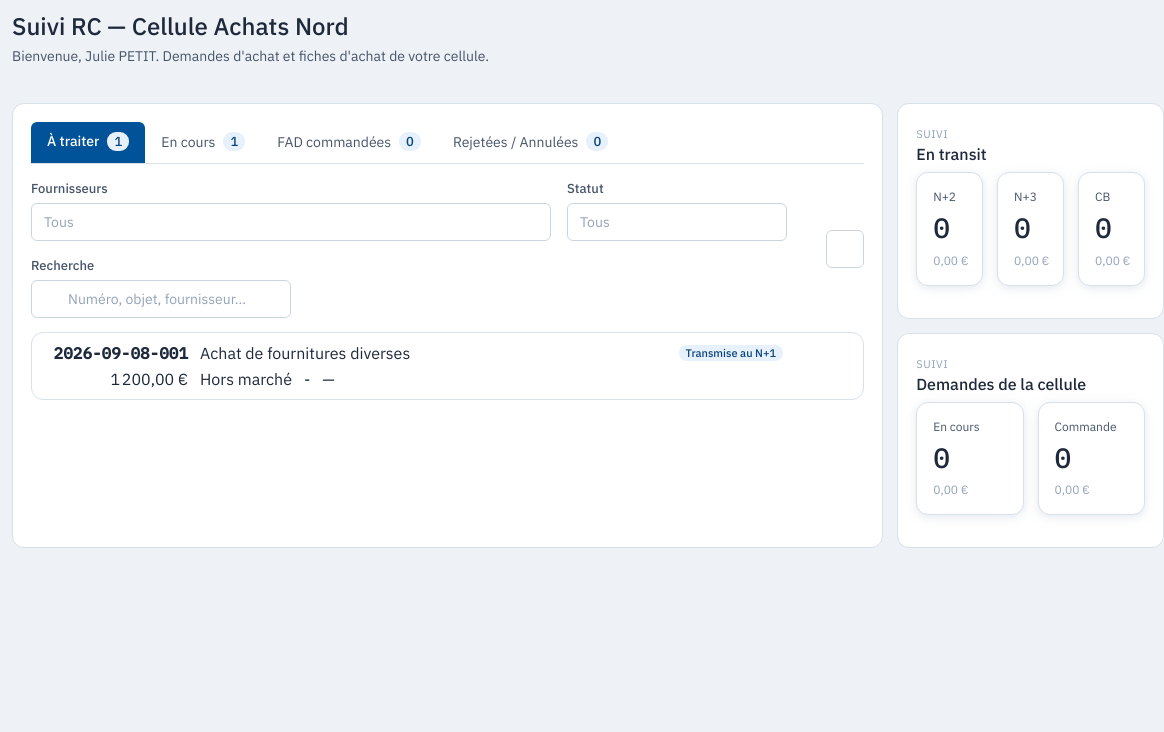
SuiviRc — onglets › changer d'onglet affiche la liste scopée correspondante
The image size is (1164, 732).
Click the tab "En cours 1": (203, 143) x1=145 y1=122 x2=261 y2=164
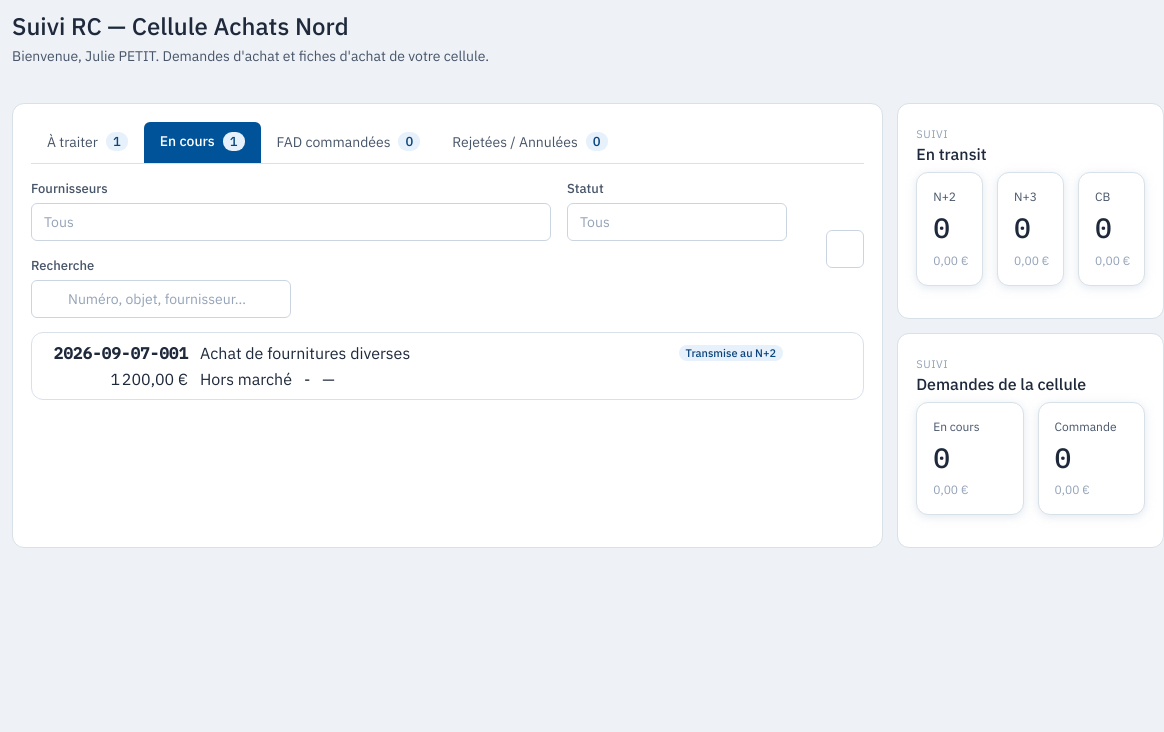
Check: the text "2026-09-07-001" is shown, box x1=48 y1=343 x2=188 y2=363
Check: the text "2026-09-08-001" is gone
